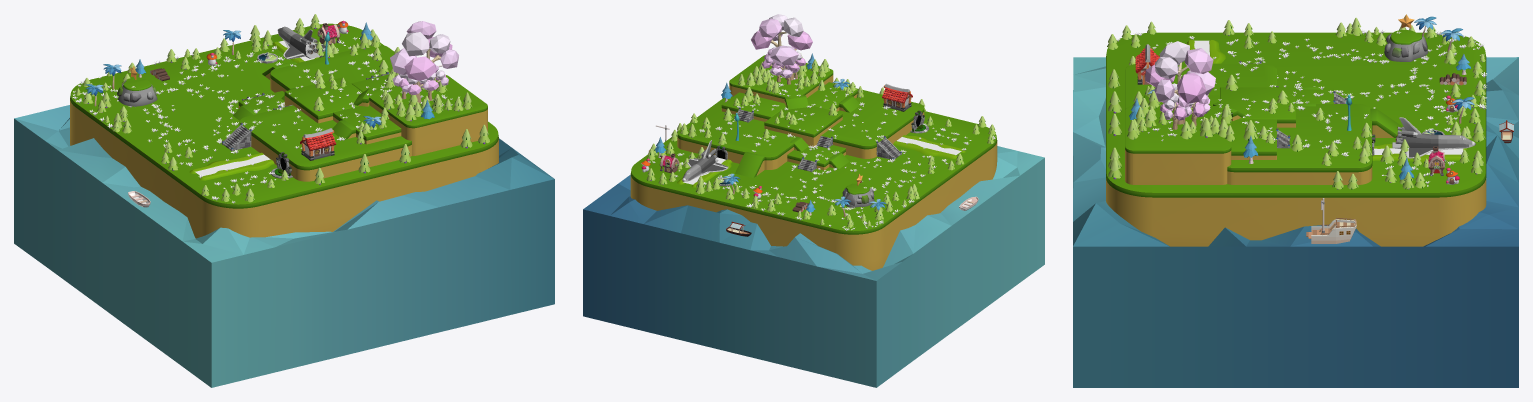
File: LandMass.glb
3 renders of one model, left to right at view 1: azimuth 30°, elevation 25°; view 2: azimuth 150°, elevation 25°; view 3: azimuth 270°, elevation 25°, orthographic. The views are drawn at different scales.
Parts seen in each view (by area): view 1: water location japanes island, Ground (×7), sakura tree, LOD0 (×2), space shuttle, house_003, Stair; view 2: water location japanes island, Ground (×8), sakura tree, LOD0 (×2), space shuttle, house_003, Ramp02; view 3: water location japanes island, Ground (×7), sakura tree, LOD0 (×3), space shuttle, destroyed ship, Ramp02, sakura tree (4), house_003, house_002, sakura tree (1).
Part boxes in pixels (left/top/right/bottom): water location japanes island: left=14, top=105, right=554, bottom=387; Ground (×7): left=70, top=23, right=498, bottom=238; sakura tree: left=390, top=21, right=458, bottom=103; LOD0 (×2): left=117, top=78, right=274, bottom=180; space shuttle: left=277, top=26, right=325, bottom=59; house_003: left=300, top=128, right=335, bottom=160; Stair: left=222, top=122, right=251, bottom=151; water location japanes island: left=583, top=146, right=1044, bottom=387; Ground (×8): left=630, top=55, right=997, bottom=270; sakura tree: left=751, top=14, right=812, bottom=80; LOD0 (×2): left=842, top=135, right=965, bottom=207; space shuttle: left=682, top=140, right=728, bottom=181; house_003: left=882, top=83, right=912, bottom=111; Ramp02: left=735, top=152, right=764, bottom=177; water location japanes island: left=1073, top=57, right=1518, bottom=387; Ground (×7): left=1106, top=32, right=1486, bottom=246; sakura tree: left=1145, top=41, right=1215, bottom=124; LOD0 (×3): left=1184, top=30, right=1467, bottom=163; space shuttle: left=1392, top=117, right=1475, bottom=158; destroyed ship: left=1306, top=198, right=1356, bottom=243; Ramp02: left=1370, top=108, right=1401, bottom=137; sakura tree (4): left=1160, top=93, right=1189, bottom=129; house_003: left=1135, top=44, right=1159, bottom=84; house_002: left=1428, top=146, right=1446, bottom=175; sakura tree (1): left=1185, top=94, right=1210, bottom=125.
Size of what is drawn, in the model's own units: 119 by 85.72 by 117.
Materials: 10 (6 with a texture image).
